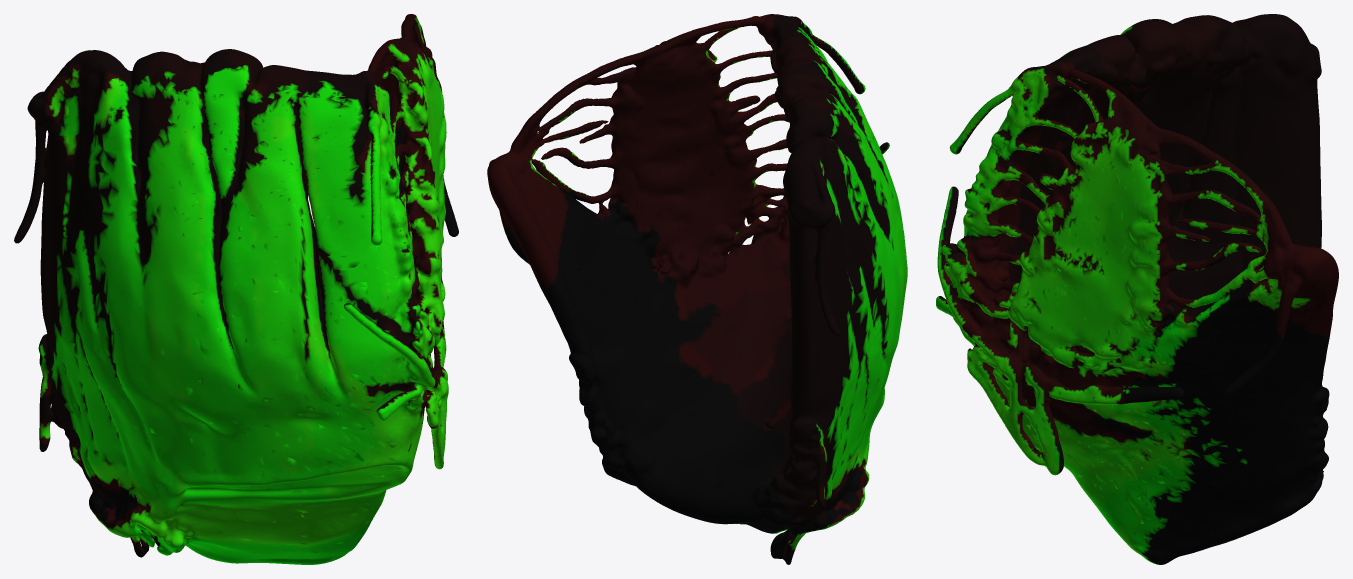
The model's file is glove.glb.
3 views of the same model, side by side, from view 1: azimuth 30°, elevation 25°; view 2: azimuth 150°, elevation 25°; view 3: azimuth 270°, elevation 25° (orthographic). The views are drawn at different scales.
Parts seen in each view (by area): view 1: world; view 2: world; view 3: world.
Part boxes in pixels (x1,y1,x2,y2): world: (14,14,458,564); world: (487,14,907,564); world: (936,14,1338,564).
Size of the model in its own units: 0.8116 by 1 by 0.7393.
